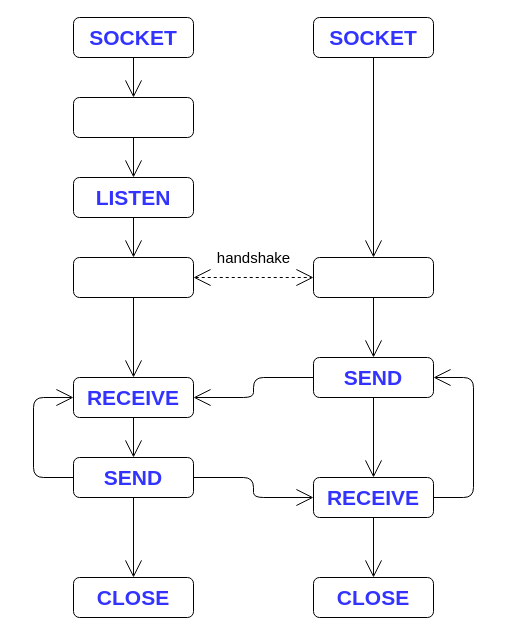
This 508x635 diagram has some shape labels left out. Each missing label, with the centre of its shape:
ACCEPT: the point at 133,277
BIND: the point at 133,117
CONNECT: the point at 373,277
